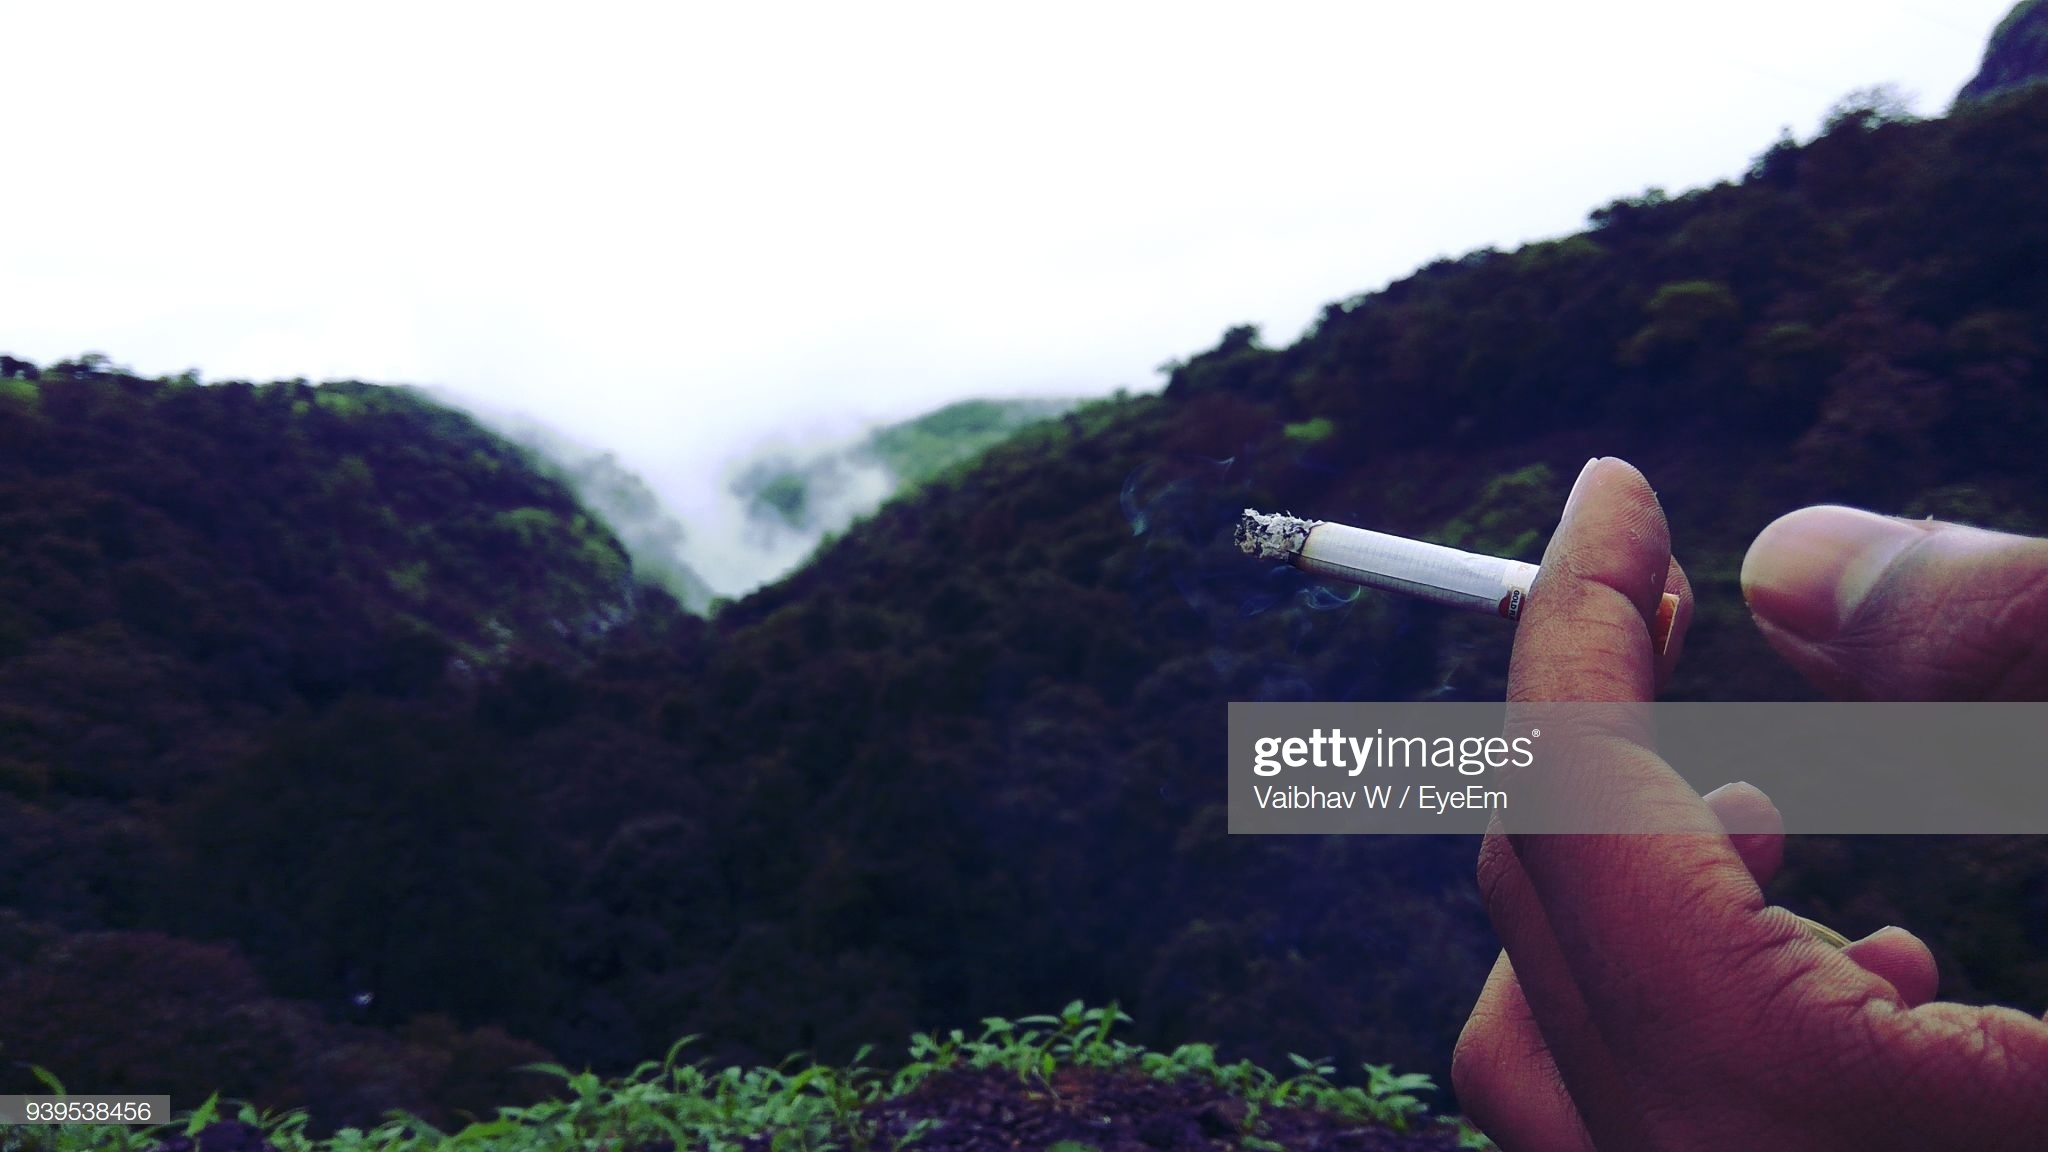sigaretta: (1215, 515, 1672, 637)
